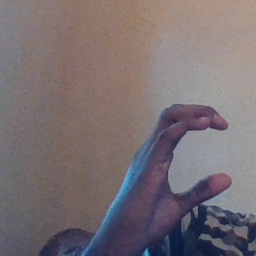C: (126, 95, 242, 219)
